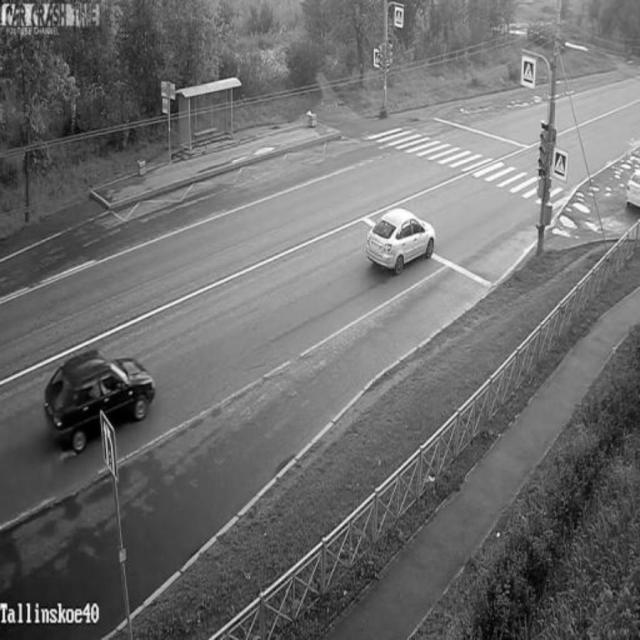vehicle: (43, 352, 157, 450), (363, 211, 436, 269), (623, 162, 640, 212)
